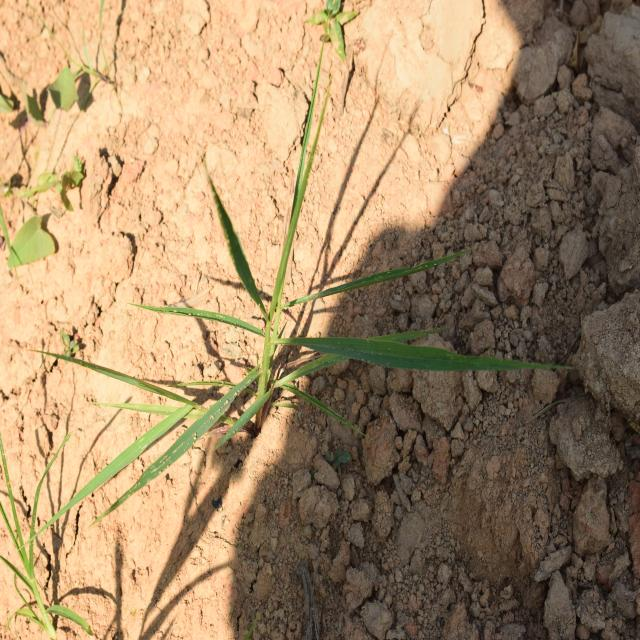green_foxtail: (116, 170, 488, 448)
